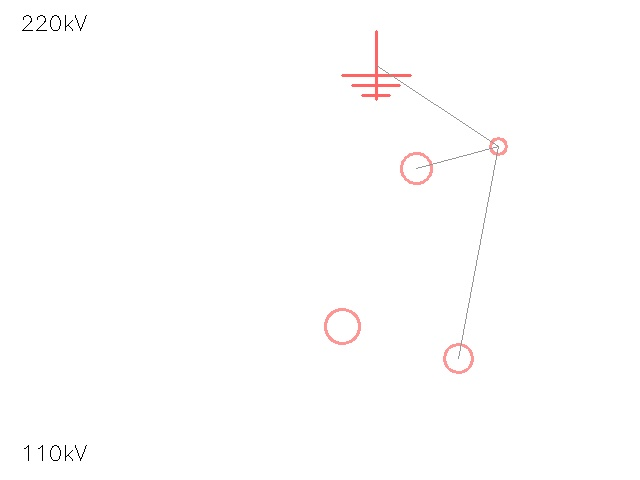current_transformer: (386, 138, 446, 198)
disconnect_switch: (308, 292, 376, 360)
ground: (342, 31, 410, 99)
reactor: (429, 329, 487, 387), (481, 129, 515, 163)
